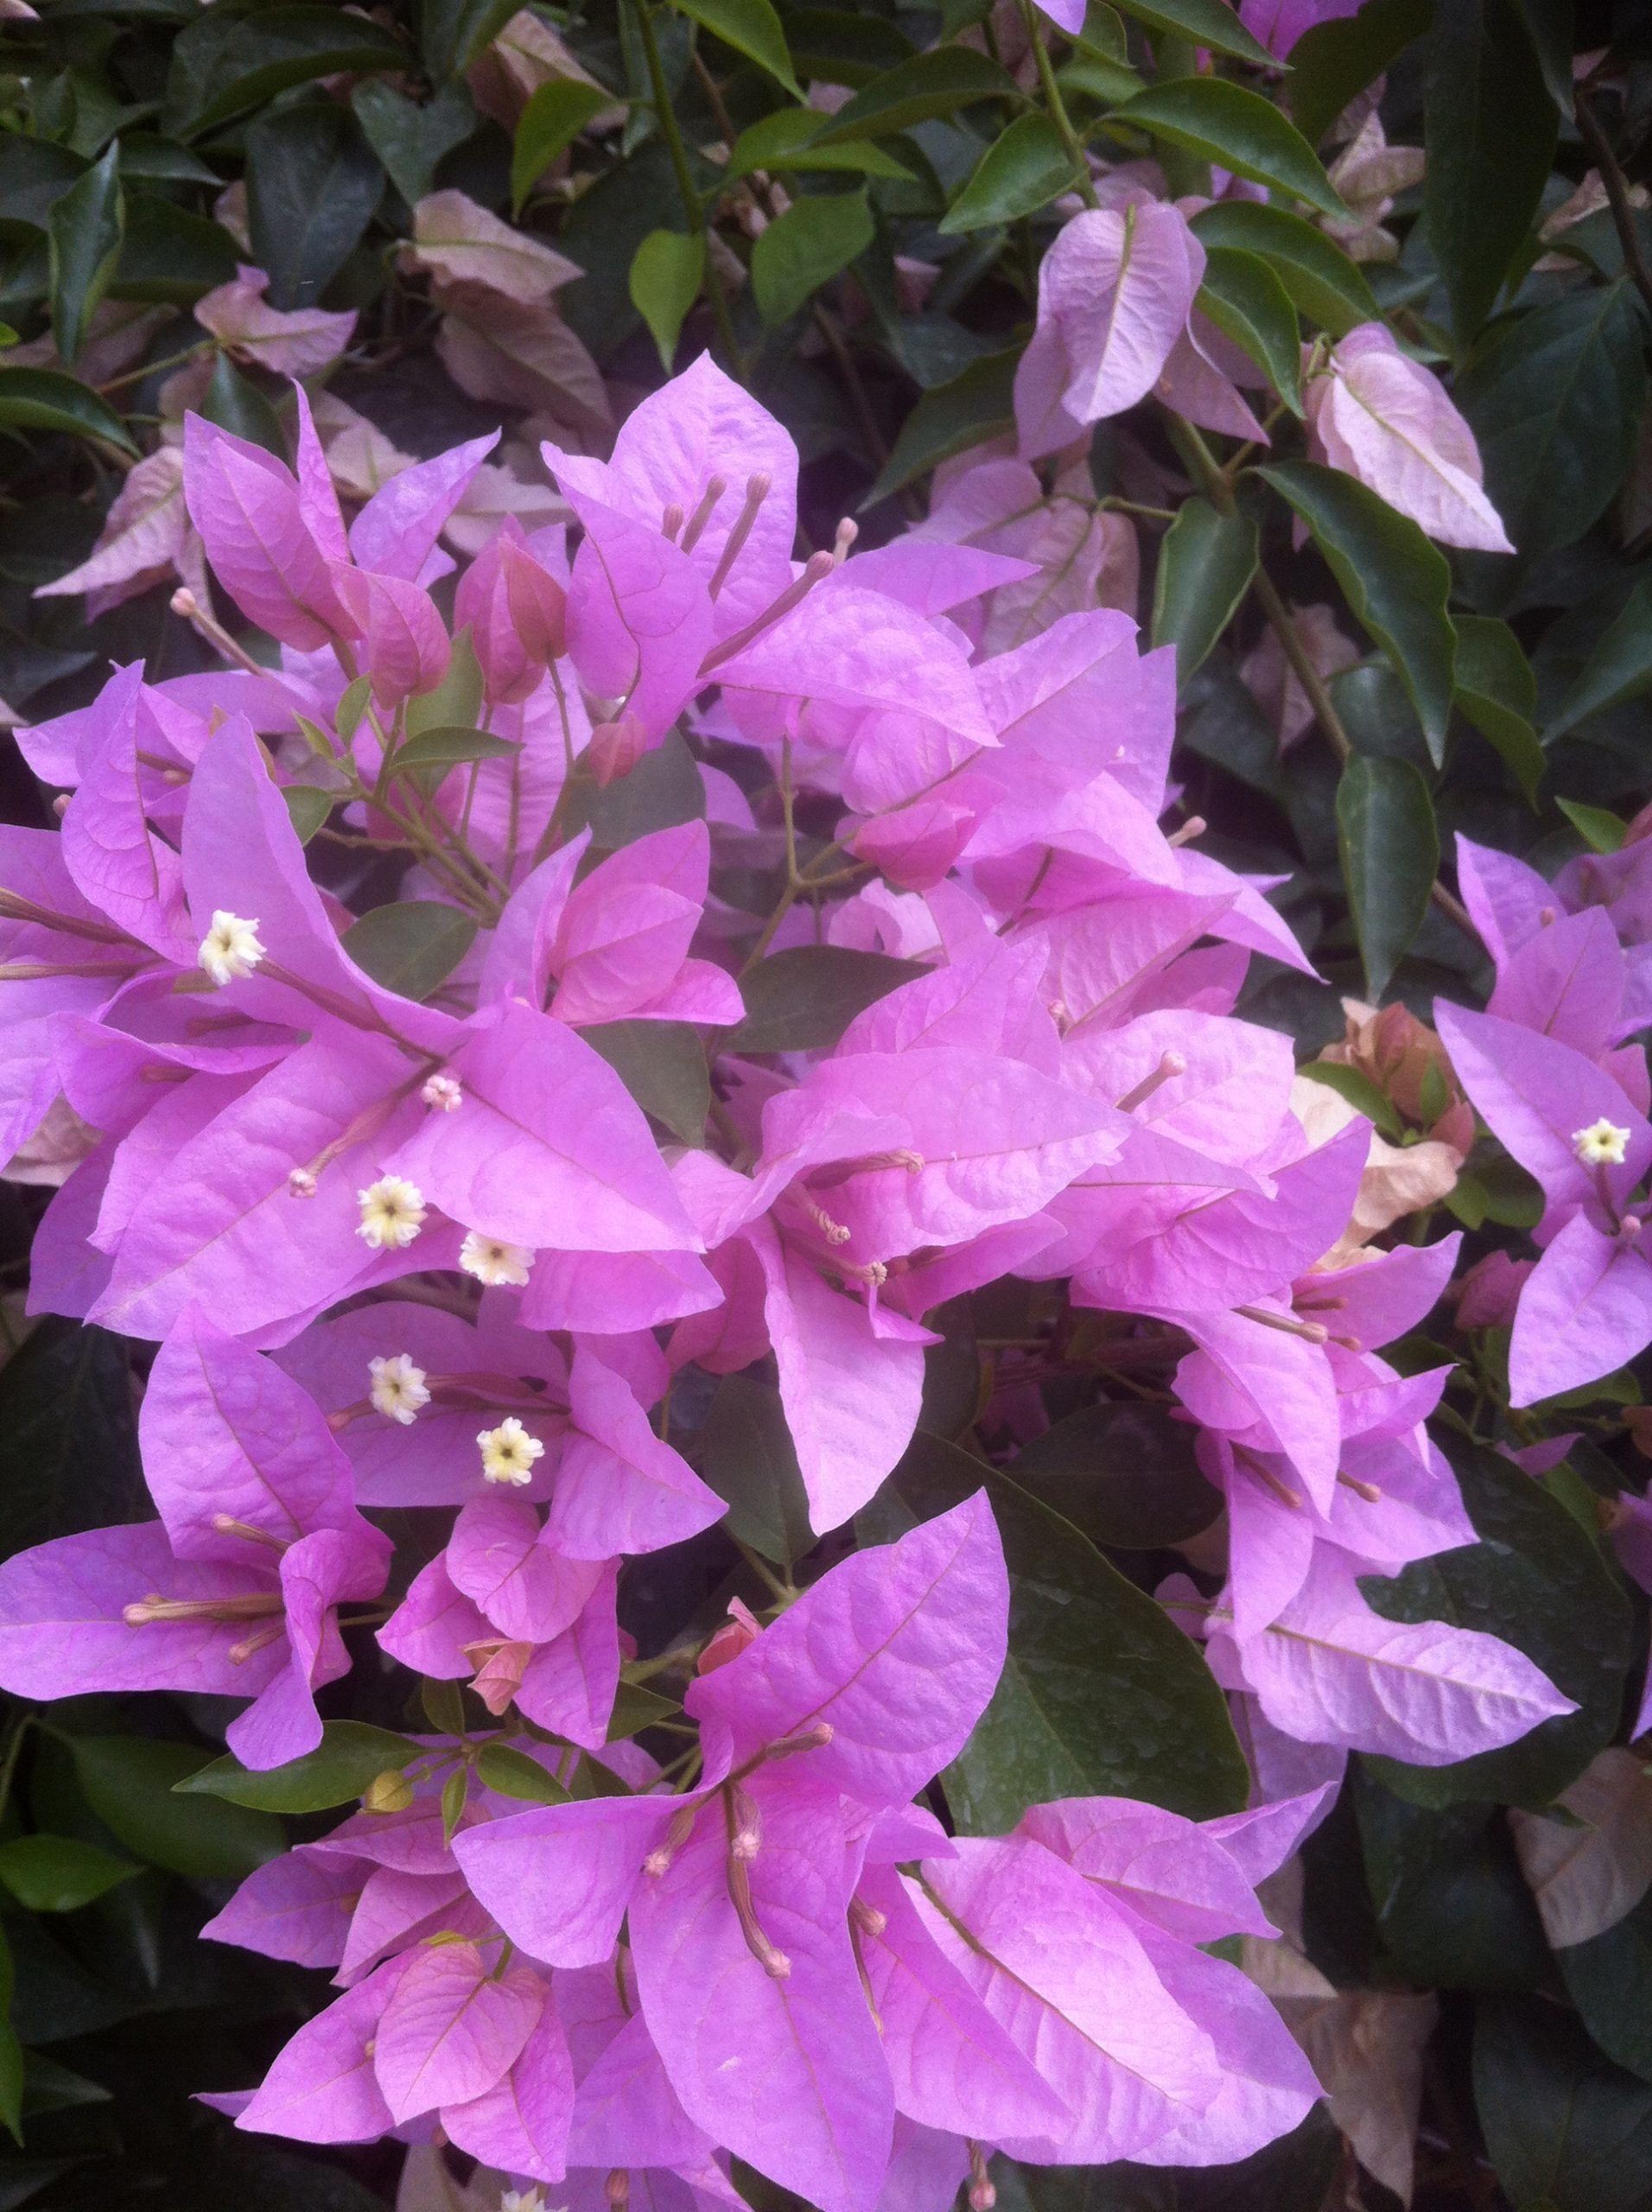bougainvillea: (458, 1511, 1003, 2193), (109, 715, 687, 1325), (541, 349, 1003, 751), (2, 1329, 392, 1764), (347, 1286, 727, 1624), (1428, 1003, 1652, 1404)
